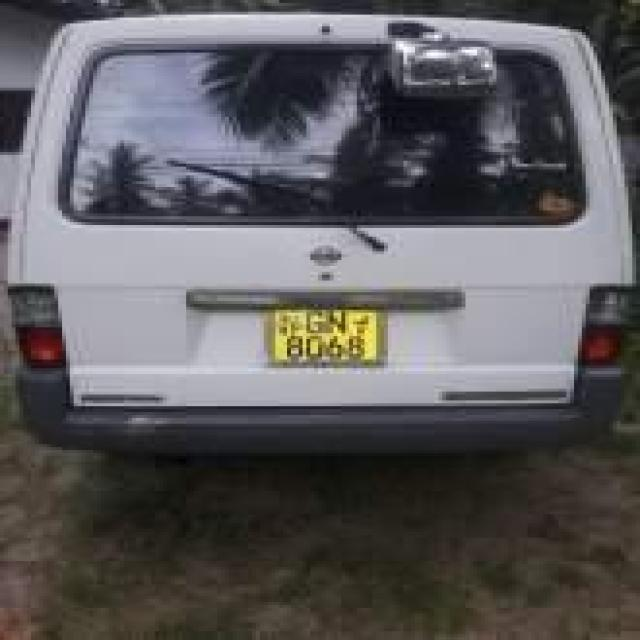license-plate: (272, 304, 380, 362)
